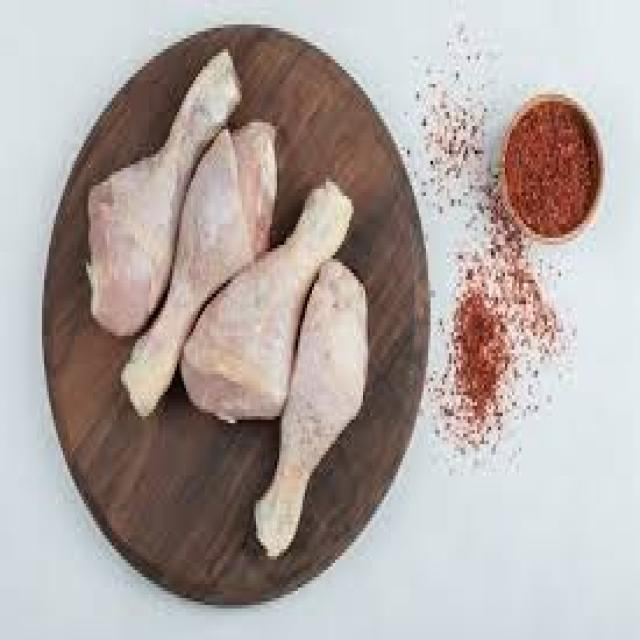leg: (80, 45, 232, 325), (125, 116, 266, 384), (252, 258, 380, 541), (180, 185, 340, 396)
